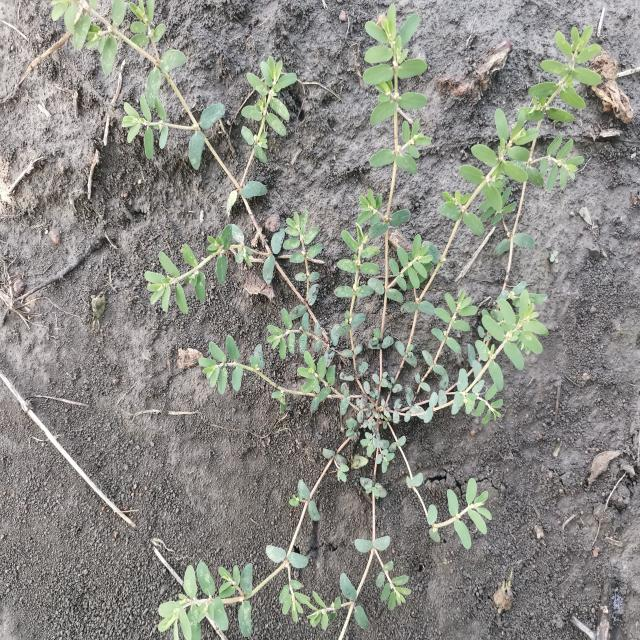SpottedSpurge: (47, 1, 605, 637)
